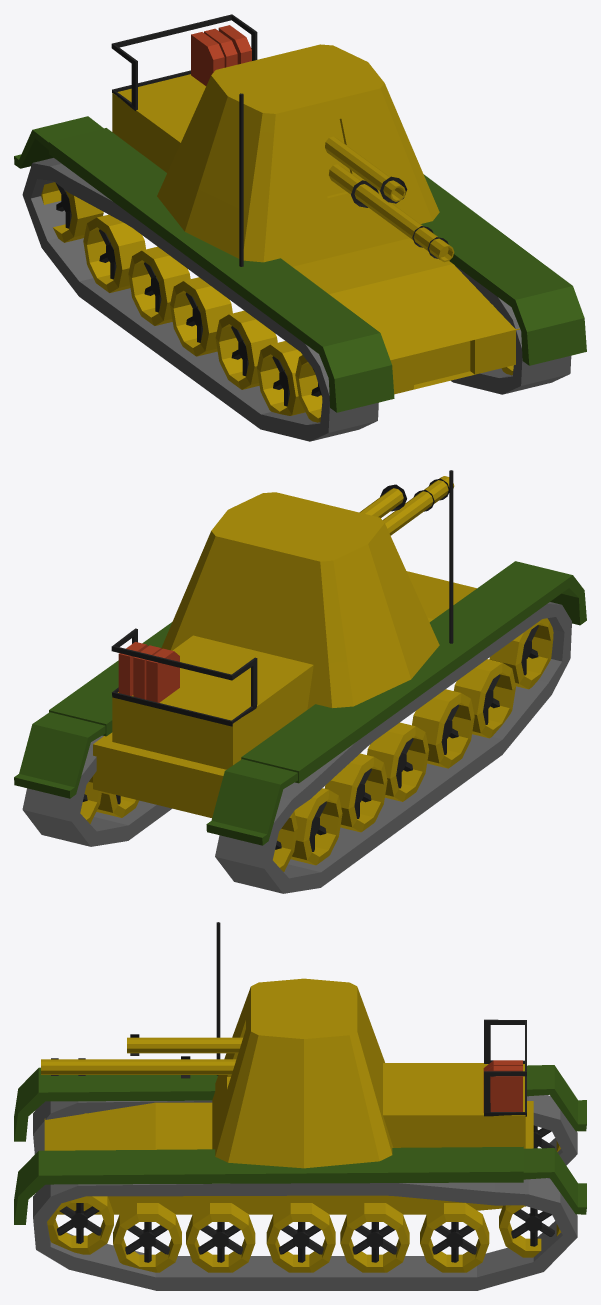
File: scene_lKkzdGjTux.glb
3 views of the same model, one above another, from view 1: azimuth 30°, elevation 25°; view 2: azimuth 150°, elevation 25°; view 3: azimuth 270°, elevation 25° (orthographic). The views are drawn at different scales.
Parts seen in each view (by area): view 1: Light_Tank; view 2: Light_Tank; view 3: Light_Tank.
Part boxes in pixels (<box>): Light_Tank: <box>14,14,586,441</box>; Light_Tank: <box>14,470,586,893</box>; Light_Tank: <box>14,922,586,1290</box>.
Size of the model in its own units: 2.06 by 2.4 by 4.61.
